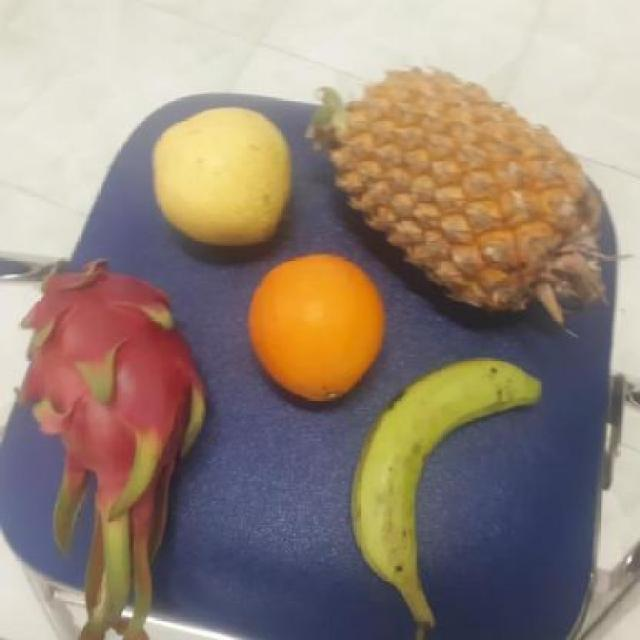banana: (338, 364, 533, 598)
dragon fruit: (20, 262, 208, 531)
oren: (245, 251, 385, 402)
pear: (144, 108, 298, 252)
pineapple: (313, 79, 599, 321)
